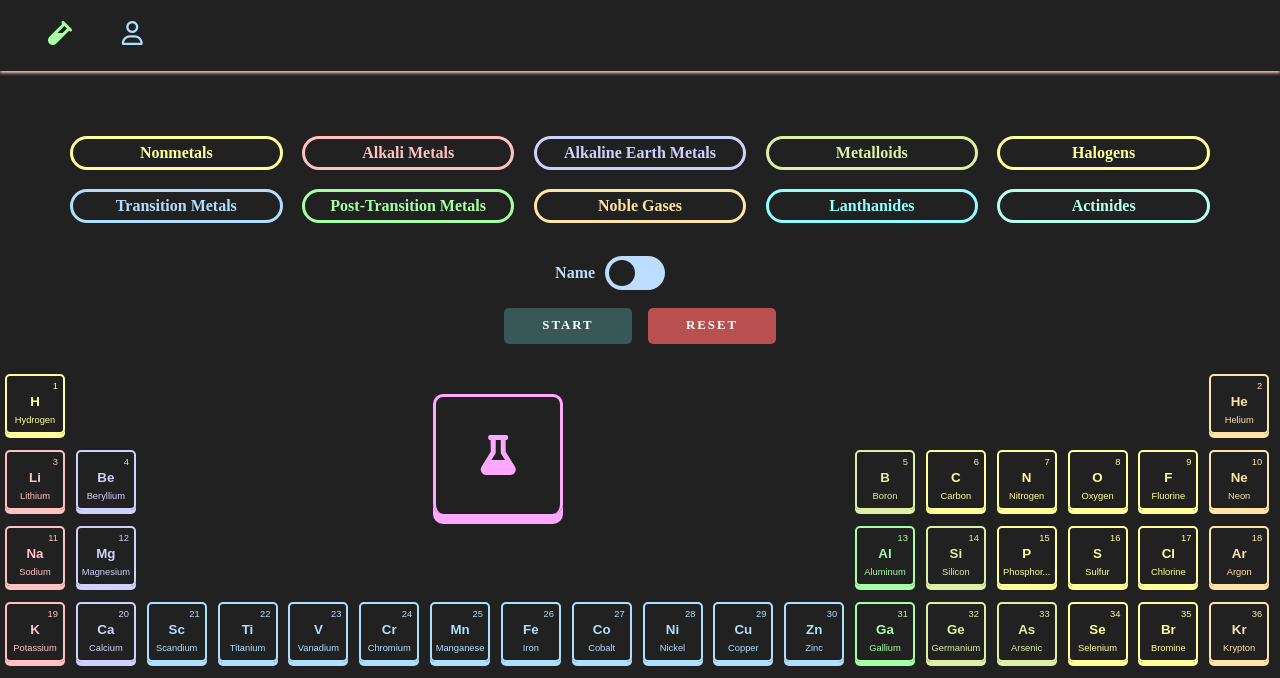
Test: Form elements change visual state on click › should show an error message whent he start button is clicked and no chemical group is selected
Click the button with class "submit-button". click: (568,326)
box: [504,308,632,344]
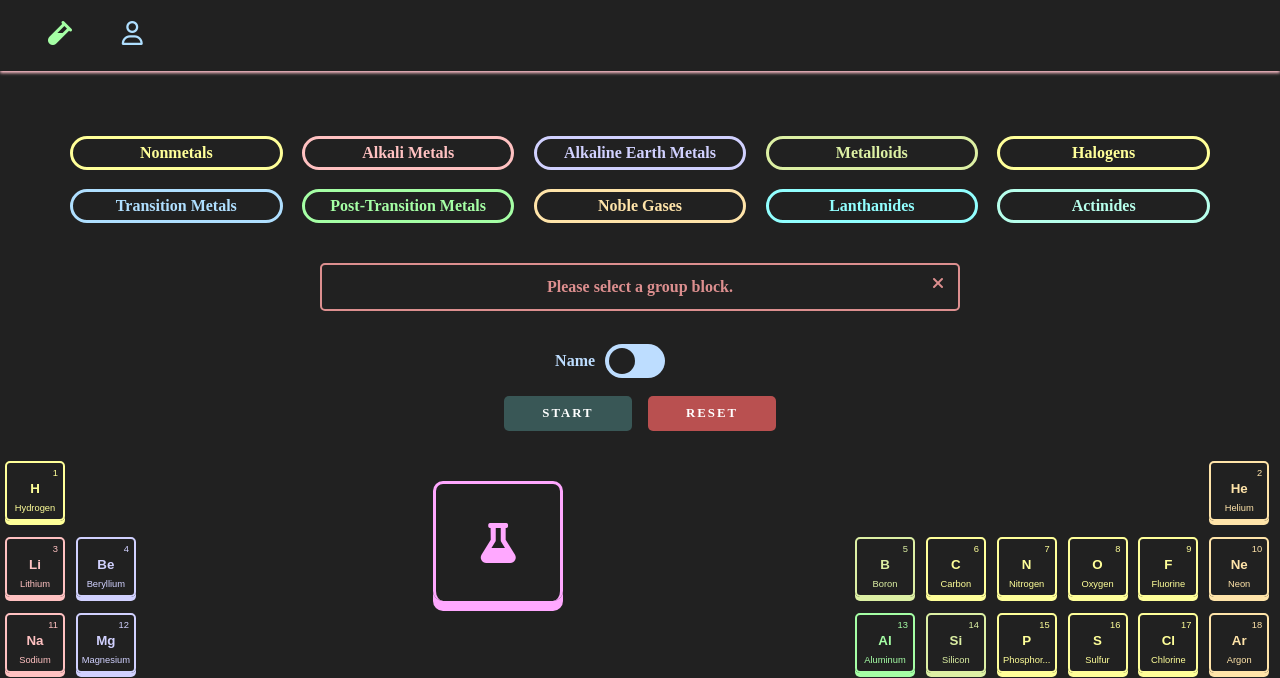
Check: the text "Please select a group" is shown, box [547,278,733,295]
